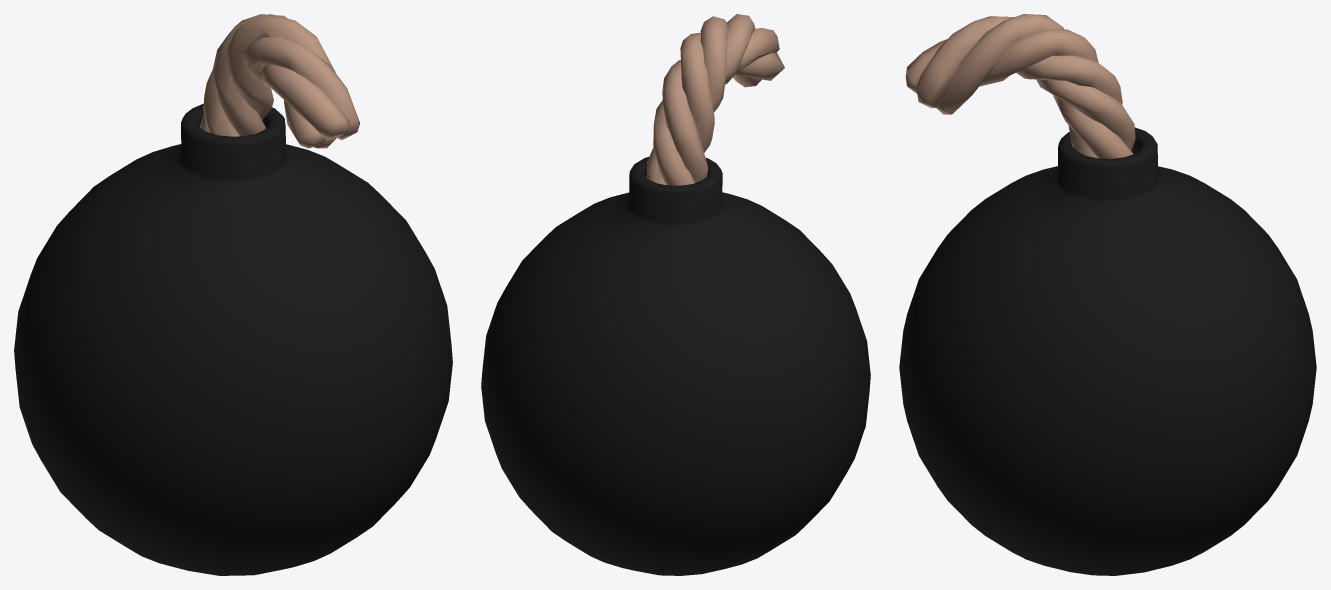
3 renders of one model, left to right at view 1: azimuth 30°, elevation 25°; view 2: azimuth 150°, elevation 25°; view 3: azimuth 270°, elevation 25°, orthographic. The views are drawn at different scales.
Visible parts, largest first — view 1: Sphere, BezierCurve; view 2: Sphere, BezierCurve; view 3: Sphere, BezierCurve.
Part boxes in pixels (x1,y1,x2,y2): Sphere: (14, 104, 452, 575); BezierCurve: (199, 14, 359, 148); Sphere: (481, 157, 870, 575); BezierCurve: (646, 14, 784, 185); Sphere: (899, 127, 1316, 575); BezierCurve: (905, 14, 1135, 158).
Size of the model in its own units: 140 by 200 by 140.
